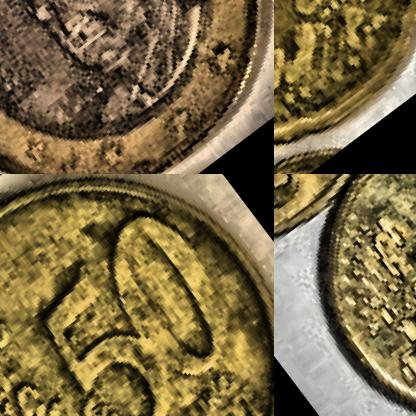coin: (0, 174, 273, 415), (0, 0, 273, 173), (274, 174, 415, 415), (274, 0, 415, 173)
